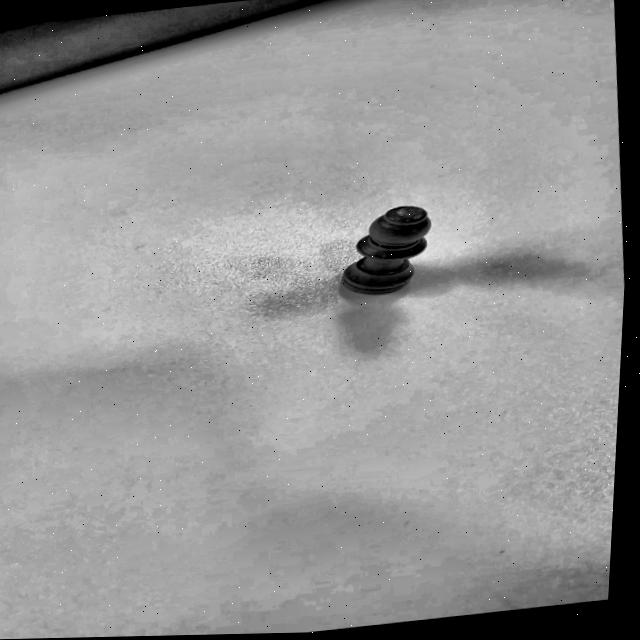black-bishop: (320, 199, 444, 304)
